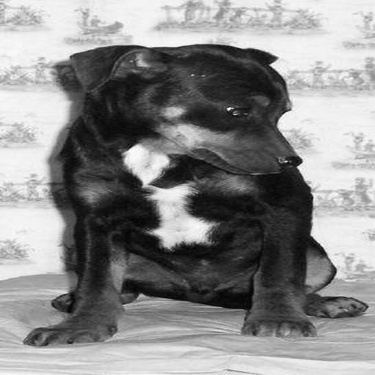dog: (14, 42, 370, 346)
